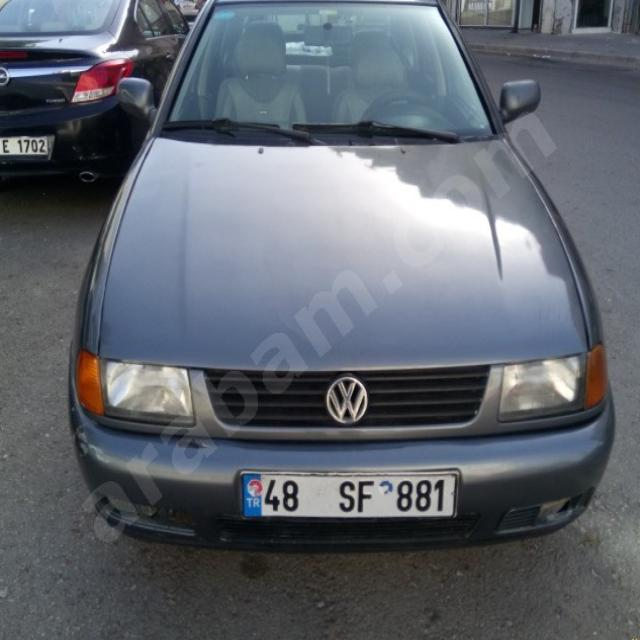license_plate: (241, 472, 456, 518)
